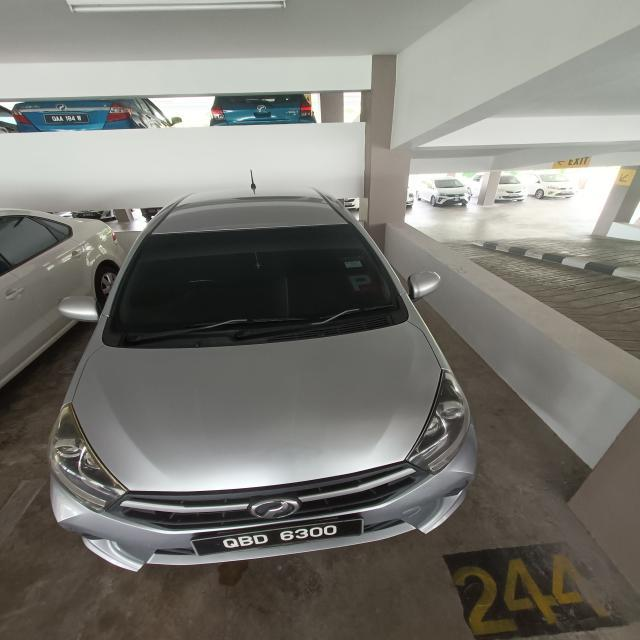PeroduaAxia: (47, 178, 480, 572)
